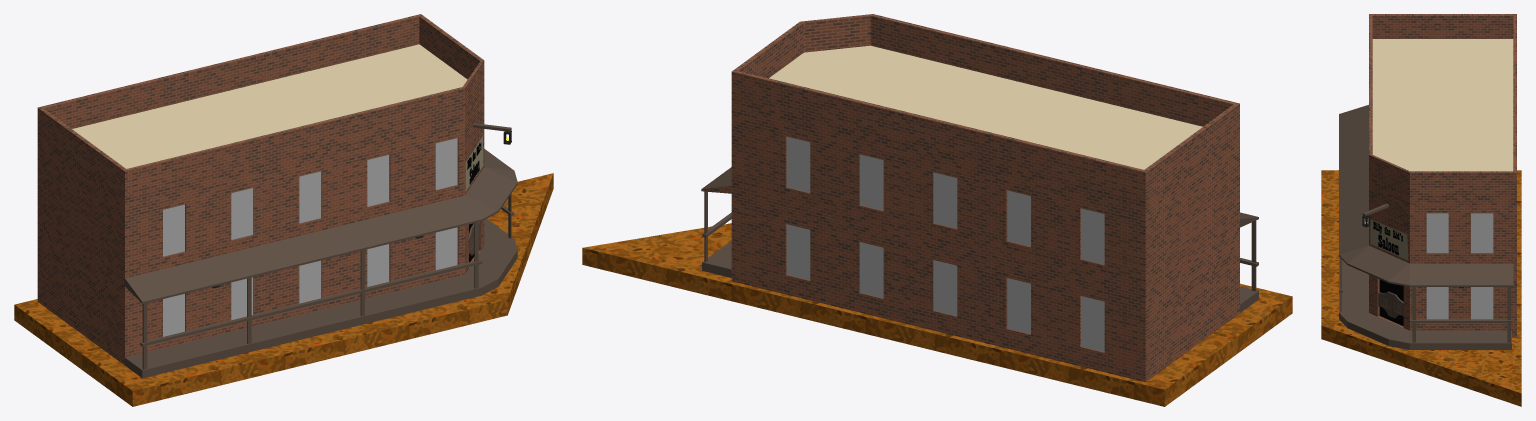
Rendered from Old West Saloon.glb.
3 views of the same model, side by side, from view 1: azimuth 30°, elevation 25°; view 2: azimuth 150°, elevation 25°; view 3: azimuth 270°, elevation 25° (orthographic). The views are drawn at different scales.
Parts seen in each view (by area): view 1: Walls, Ground, Porch, Widnows, Bracing; view 2: Walls, Ground, Widnows, Porch, Bracing; view 3: Walls, Ground, Porch, Widnows, Bracing, Saloon Door, Int, Sign Text.
Boxes of the visible parts, x1,y1,x2,y2 form: Walls: (37,14,517,365); Ground: (14,173,553,406); Porch: (125,219,517,378); Widnows: (163,138,457,336); Bracing: (140,193,514,369); Walls: (701,14,1258,382); Ground: (582,223,1292,406); Widnows: (786,136,1104,351); Porch: (702,241,1258,312); Bracing: (702,191,1258,291); Walls: (1339,14,1516,337); Ground: (1321,170,1521,406); Porch: (1339,261,1511,349); Widnows: (1426,213,1493,319); Bracing: (1339,256,1511,342); Saloon Door: (1378,291,1403,318); Int: (1379,279,1403,326); Sign Text: (1373,221,1402,255).
Size of the model in its own units: 21.71 by 8.39 by 8.24.
Materials: 10 (2 with a texture image).
